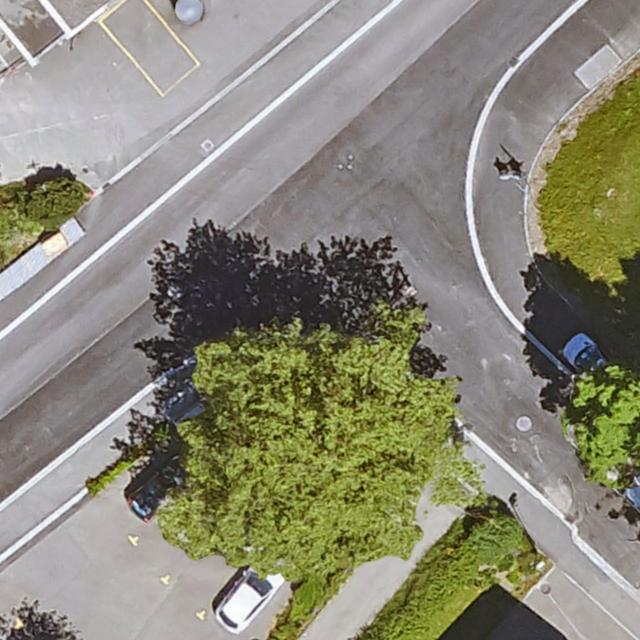tree: (159, 304, 459, 573), (563, 365, 640, 485)
